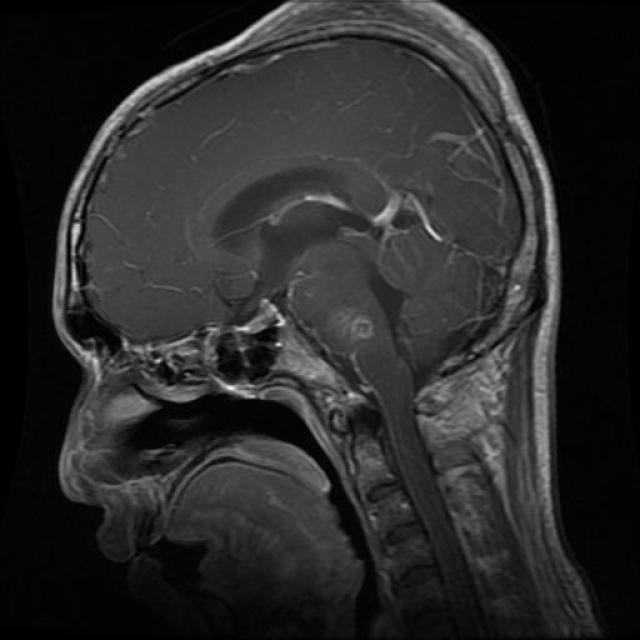glioma_tumor: (309, 296, 387, 376)
